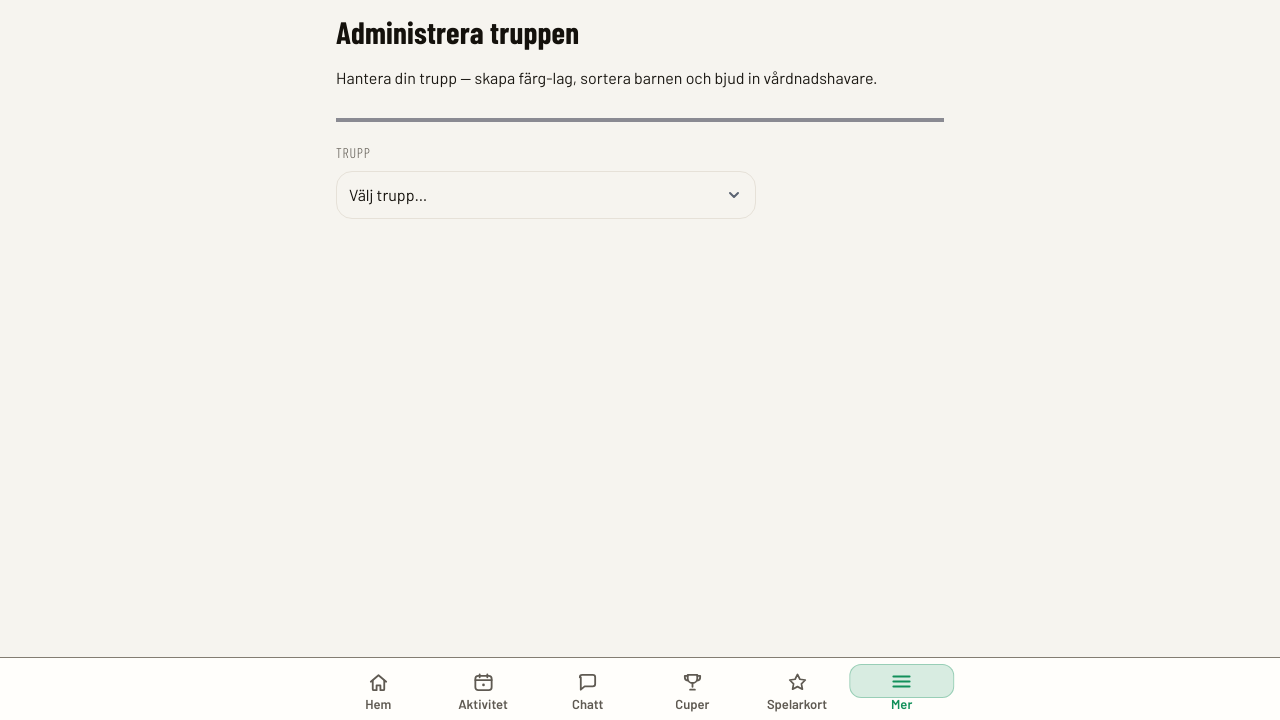
Scenario: Trupp-adminvyn › med flera trupper visas väljaren, och inget innehåll förrän man valt (#331)
The width and height of the screenshot is (1280, 720).
Select "Kärra · P2014 2026" in the dropdown labelled "Trupp": x=546, y=194 [336,170,756,218]
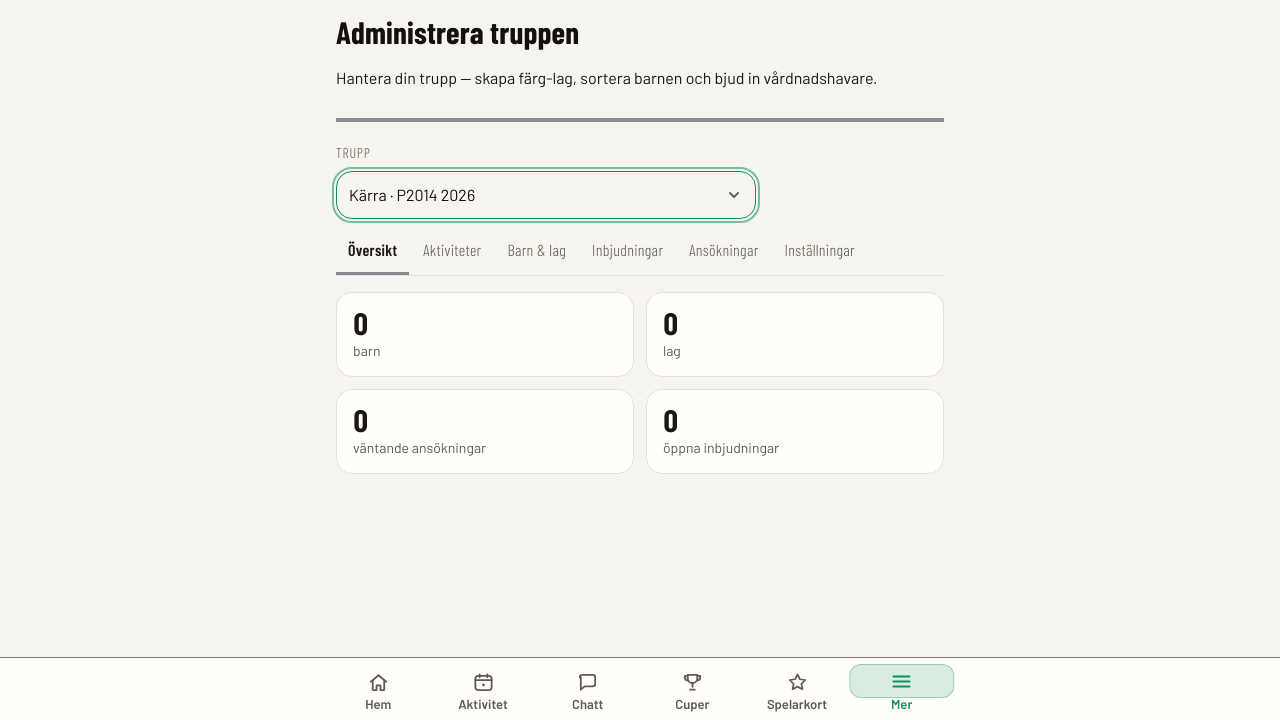
Expected: the element named "Administrera truppen" is shown, [336,226,944,276]
